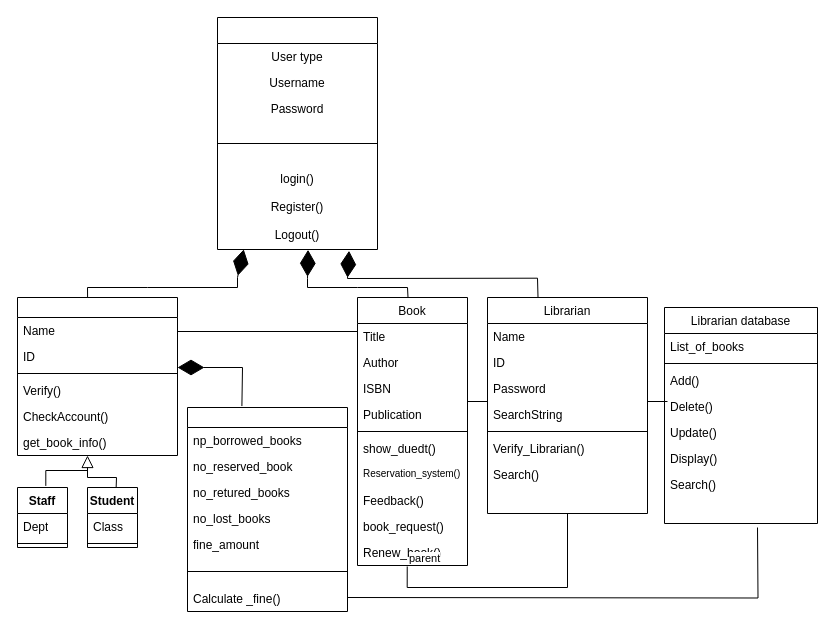
Some shapes in this 835 by 632 pixel diagram are drawn without their labels. Here are the shapes that lost their labels. From the top down, the box of each, then its label:
(216, 16, 378, 250): Library Management syste,
(16, 296, 178, 456): User
(186, 406, 348, 612): Account
